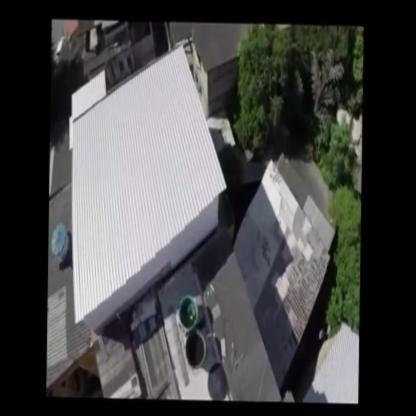agua: (181, 294, 209, 368)
